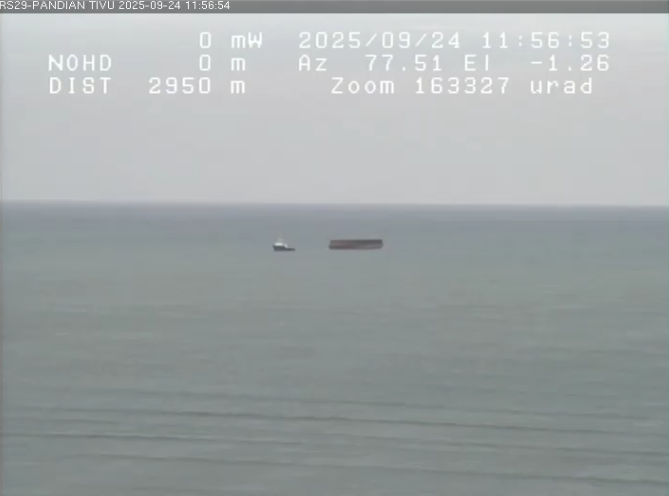BARGE: (326, 232, 400, 253)
OFFSHORE_SUPPLY_VESSEL: (266, 232, 299, 259)
TOWING: (248, 211, 420, 281)
